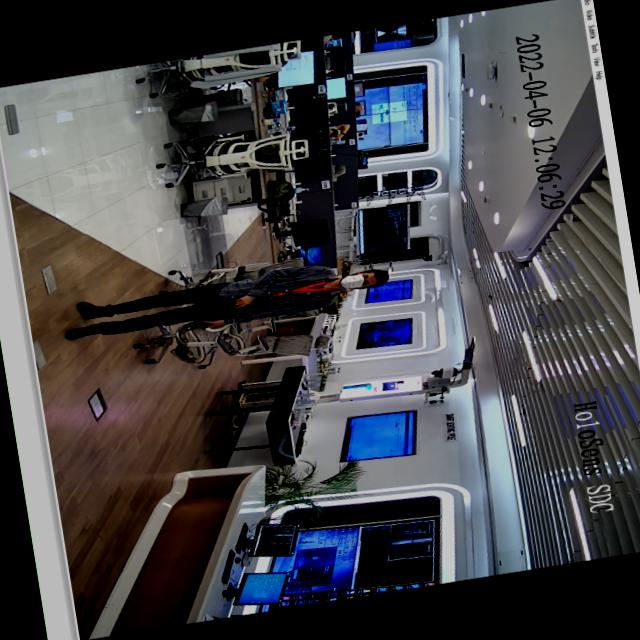long weapon: (172, 290, 282, 337)
